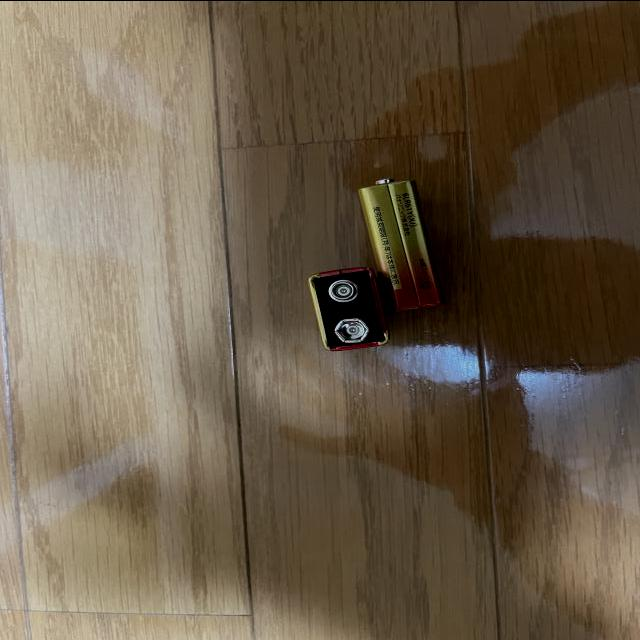9V: (359, 175, 446, 315), (309, 267, 392, 351)
